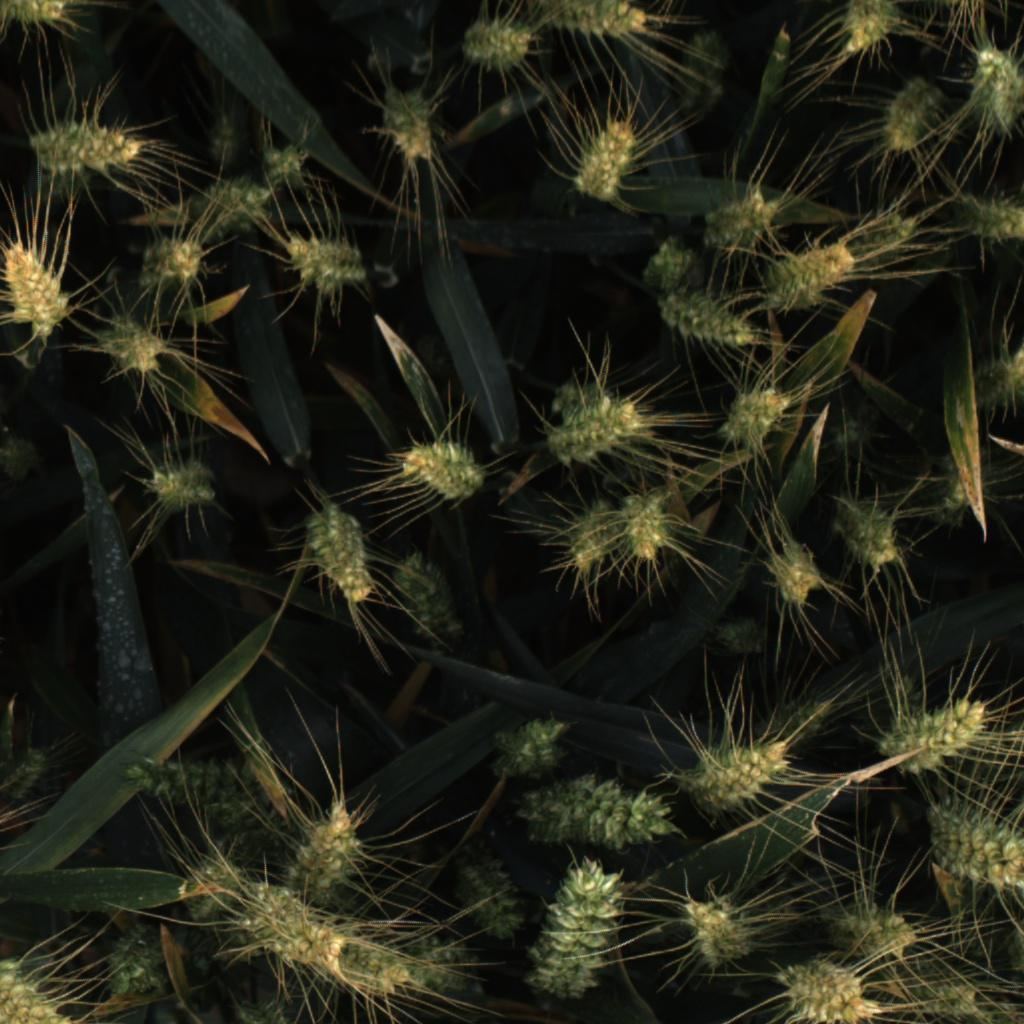0-0: (112, 746, 318, 859), (519, 853, 632, 1000), (271, 787, 373, 917), (233, 880, 351, 984), (918, 786, 1024, 900), (518, 778, 678, 852), (880, 693, 992, 783), (677, 735, 795, 814), (542, 394, 648, 473), (388, 545, 467, 651), (24, 112, 152, 176), (0, 238, 74, 346), (303, 500, 376, 609), (770, 955, 884, 1024), (760, 236, 860, 312), (658, 26, 737, 120), (829, 891, 931, 961), (449, 850, 531, 937), (321, 925, 409, 1004), (393, 434, 487, 506), (98, 915, 177, 1000), (488, 705, 577, 780), (923, 439, 995, 530), (569, 117, 645, 203), (657, 293, 763, 354), (830, 486, 906, 571), (279, 227, 372, 294), (874, 71, 947, 156), (0, 948, 80, 1024), (965, 38, 1024, 140), (698, 185, 782, 256), (191, 170, 275, 240), (681, 890, 755, 969), (452, 5, 538, 72), (713, 384, 794, 454), (378, 85, 445, 169), (90, 313, 170, 382), (756, 694, 839, 760), (129, 229, 211, 293), (881, 973, 986, 1022), (143, 452, 223, 516), (849, 203, 925, 269), (185, 844, 249, 922), (536, 0, 655, 41), (764, 533, 825, 607), (564, 496, 618, 577), (545, 380, 623, 436), (0, 737, 58, 810), (618, 489, 671, 568), (968, 344, 1024, 417), (950, 192, 1024, 247), (635, 228, 701, 289), (381, 932, 482, 970), (837, 0, 905, 55), (394, 960, 486, 997), (711, 615, 778, 664), (258, 135, 313, 193), (203, 106, 248, 176), (0, 425, 49, 489), (0, 0, 73, 33), (231, 992, 305, 1024), (825, 414, 867, 455), (1003, 915, 1024, 979)
